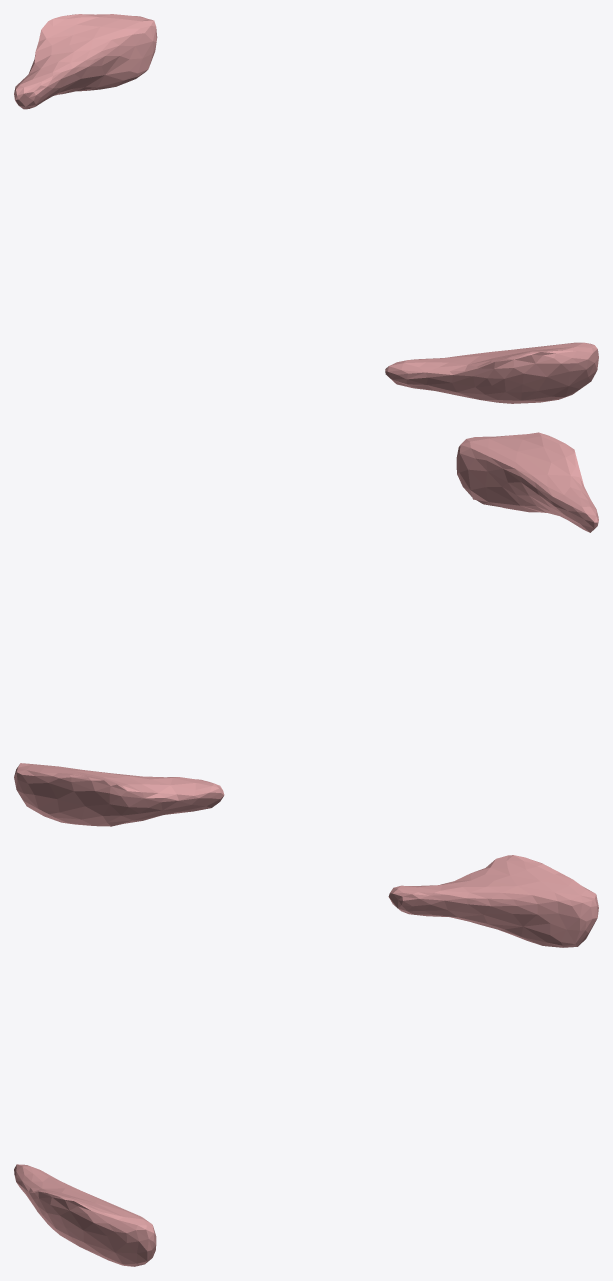
The picture shows the model from 3 angles, top to bottom: view 1: azimuth 30°, elevation 25°; view 2: azimuth 150°, elevation 25°; view 3: azimuth 330°, elevation 25°; orthographic projection.
Visible parts, largest first — view 1: 1072.obj; view 2: 1072.obj; view 3: 1072.obj.
Boxes of the visible parts, x1=… form: 1072.obj: x1=14, y1=14, x2=598, y2=403; 1072.obj: x1=14, y1=432, x2=598, y2=826; 1072.obj: x1=14, y1=855, x2=598, y2=1266.
Bounding box in the file's own units: 1124 × 413 × 5166.
